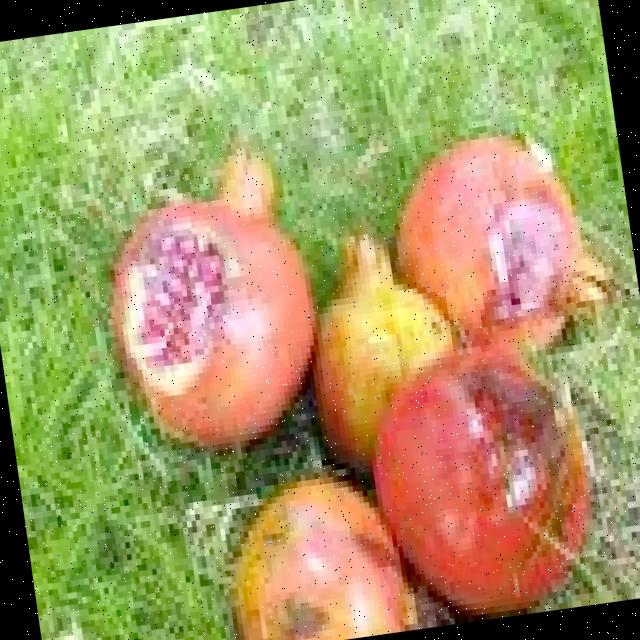Bad_Pomegranate-0-1-day: (110, 135, 626, 640)
